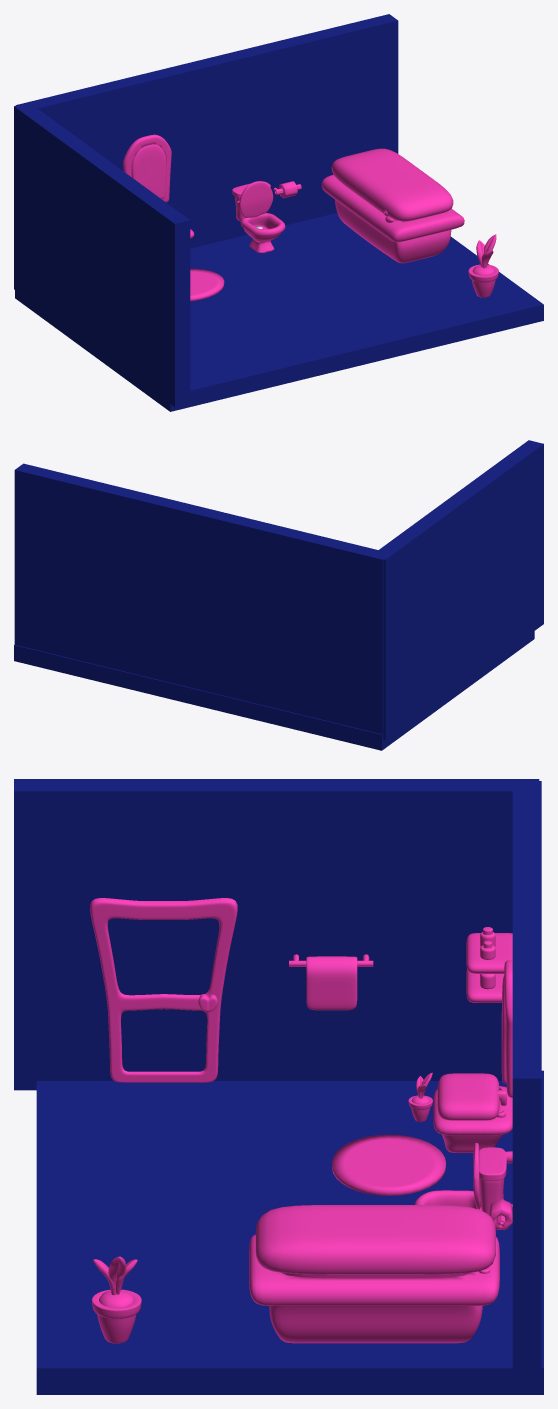
Rendered from bathroomfbx.fbx.
3 renders of one model, top to bottom at view 1: azimuth 30°, elevation 25°; view 2: azimuth 150°, elevation 25°; view 3: azimuth 270°, elevation 25°, orthographic. The views are drawn at different scales.
Visible parts, largest first — view 1: floor.001, floor.002, floor.003, Cube.092, Cube.091, Cube.079, Cube.087, Cube.090, Cube.075, Circle.013, Cylinder.016; view 2: floor.001, floor.003, floor.002; view 3: floor.003, floor.002, floor.001, Cube.092, Cube.091, Cube.074, Circle.013, Cube.081, Plane.007, Cube.080, Cylinder.016, Cube.098 (+4 smaller).
Part boxes in pixels (x1=…): floor.001: x1=15, y1=14, x2=398, y2=248; floor.002: x1=15, y1=213, x2=543, y2=411; floor.003: x1=14, y1=102, x2=190, y2=406; Cube.092: x1=331, y1=148, x2=453, y2=221; Cube.091: x1=321, y1=174, x2=464, y2=263; Cube.079: x1=131, y1=144, x2=166, y2=198; Cube.087: x1=240, y1=213, x2=285, y2=252; Cube.090: x1=239, y1=181, x2=273, y2=217; Cube.075: x1=123, y1=134, x2=171, y2=202; Circle.013: x1=190, y1=268, x2=224, y2=301; Cylinder.016: x1=468, y1=264, x2=498, y2=297; floor.001: x1=14, y1=463, x2=390, y2=734; floor.003: x1=374, y1=440, x2=543, y2=739; floor.002: x1=14, y1=631, x2=534, y2=750; floor.003: x1=14, y1=779, x2=539, y2=1090; floor.002: x1=36, y1=1070, x2=543, y2=1394; floor.001: x1=512, y1=781, x2=541, y2=1377; Cube.092: x1=255, y1=1205, x2=495, y2=1278; Cube.091: x1=249, y1=1235, x2=499, y2=1343; Cube.074: x1=90, y1=898, x2=237, y2=1082; Circle.013: x1=332, y1=1134, x2=445, y2=1195; Cube.081: x1=437, y1=1073, x2=499, y2=1120; Plane.007: x1=306, y1=956, x2=357, y2=1010; Cube.080: x1=433, y1=1086, x2=512, y2=1152; Cylinder.016: x1=91, y1=1289, x2=141, y2=1343; Cube.098: x1=466, y1=933, x2=512, y2=973.
Size of the model in its own units: 1172 by 577 by 876.
